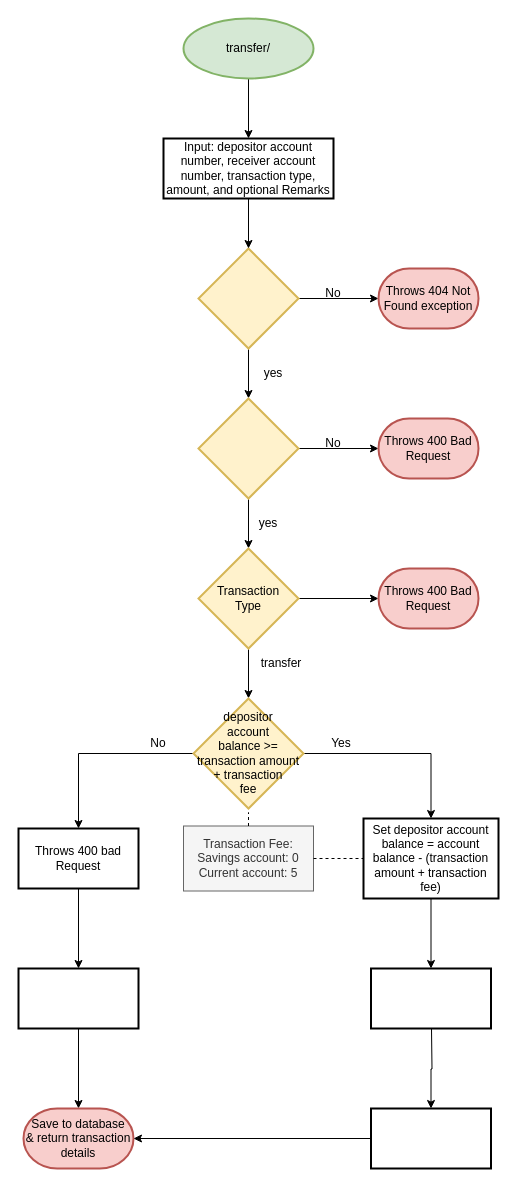
Some shapes in this 516 by 1186 pixel diagram are drawn without their labels. Each missing label, with the centre of its shape:
Both account enabled?: point (248, 448)
Both accounts exist?: point (248, 298)
Set receiver account balance = account balance + transaction amount: point (431, 998)
Set transaction status as Failed: point (78, 998)
Set Transaction status as Success: point (431, 1138)
